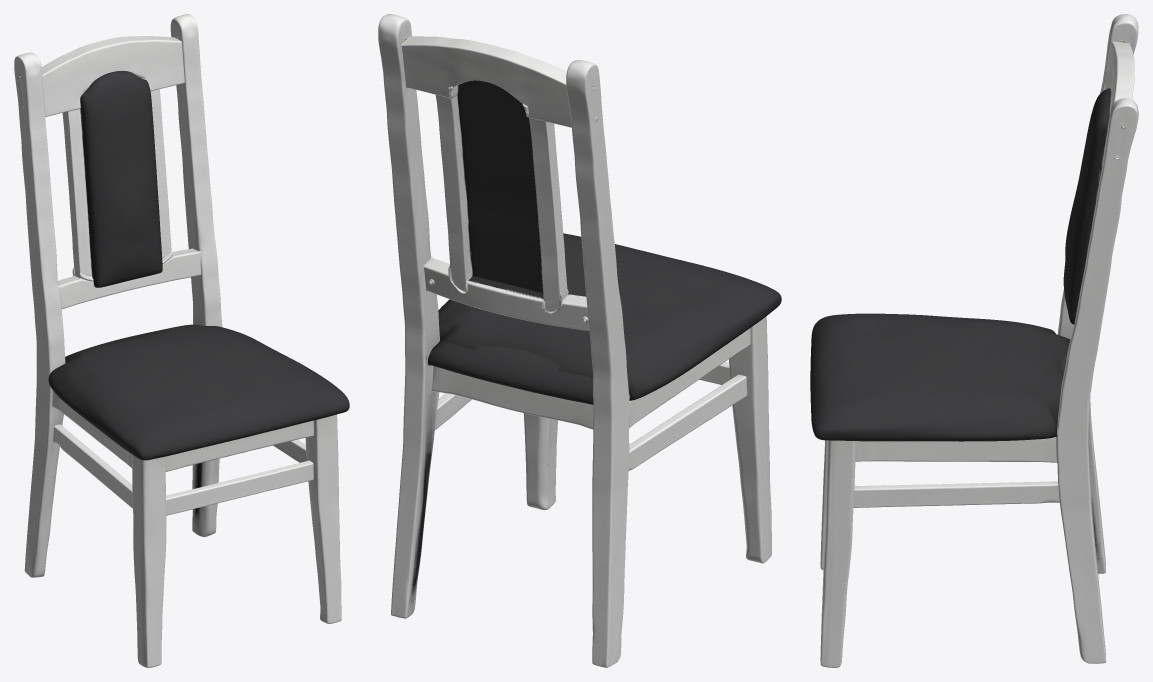
File: Lobo.glb
3 views of the same model, side by side, from view 1: azimuth 30°, elevation 25°; view 2: azimuth 150°, elevation 25°; view 3: azimuth 270°, elevation 25° (orthographic). The views are drawn at different scales.
Parts seen in each view (by area): view 1: tripo_node_5ded18cb-fd4e-44fd-8b71-564d499311c4; view 2: tripo_node_5ded18cb-fd4e-44fd-8b71-564d499311c4; view 3: tripo_node_5ded18cb-fd4e-44fd-8b71-564d499311c4.
Boxes of the visible parts, box(x1,y1,x2,y2) form: tripo_node_5ded18cb-fd4e-44fd-8b71-564d499311c4: box(14, 14, 349, 667); tripo_node_5ded18cb-fd4e-44fd-8b71-564d499311c4: box(378, 14, 781, 667); tripo_node_5ded18cb-fd4e-44fd-8b71-564d499311c4: box(810, 14, 1138, 667).
Size of the model in its own units: 0.4325 by 0.9802 by 0.5228.
Materials: 1 (1 with a texture image).
